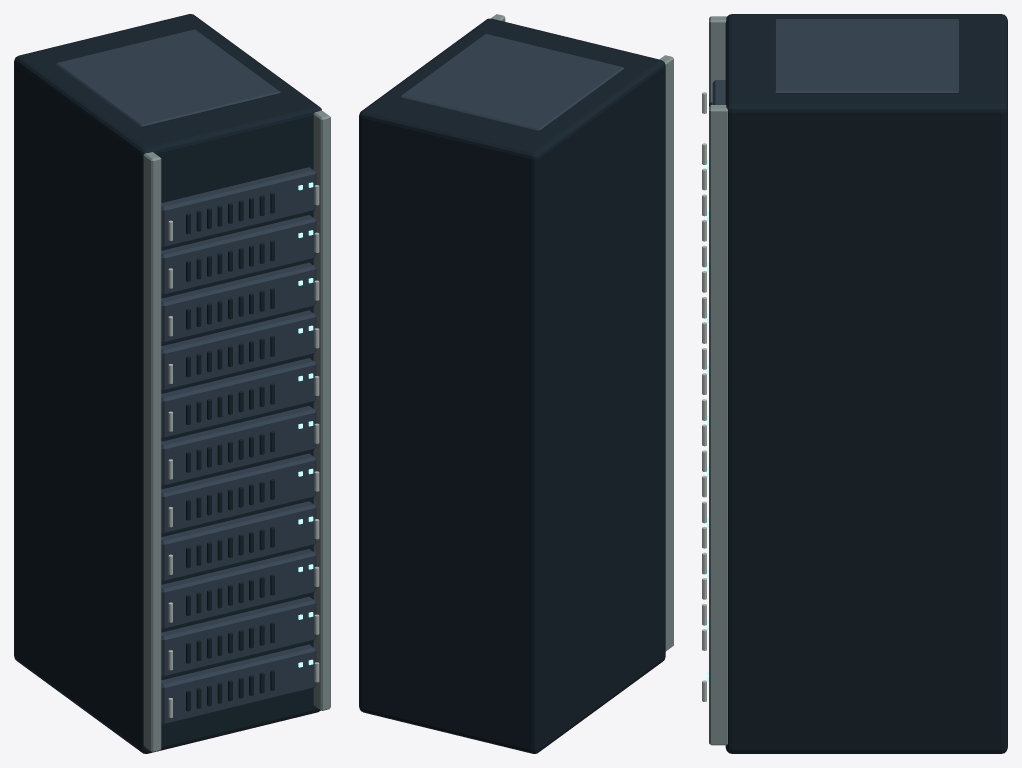
Rendered from server_rack.glb.
3 views of the same model, side by side, from view 1: azimuth 30°, elevation 25°; view 2: azimuth 150°, elevation 25°; view 3: azimuth 270°, elevation 25° (orthographic). The views are drawn at different scales.
Parts seen in each view (by area): view 1: server_rack__black, server_rack__metal, server_rack__metal_light, server_rack__steel, server_rack__status_green; view 2: server_rack__black, server_rack__metal, server_rack__metal_light; view 3: server_rack__black, server_rack__metal, server_rack__metal_light, server_rack__steel.
Part boxes in pixels (x1=…): server_rack__black: x1=14, y1=14, x2=321, y2=753; server_rack__metal: x1=56, y1=29, x2=316, y2=724; server_rack__metal_light: x1=143, y1=110, x2=330, y2=752; server_rack__steel: x1=168, y1=185, x2=319, y2=717; server_rack__status_green: x1=298, y1=182, x2=313, y2=667; server_rack__black: x1=359, y1=18, x2=665, y2=753; server_rack__metal: x1=400, y1=34, x2=623, y2=131; server_rack__metal_light: x1=491, y1=14, x2=673, y2=651; server_rack__black: x1=709, y1=14, x2=1007, y2=753; server_rack__metal: x1=712, y1=19, x2=958, y2=104; server_rack__metal_light: x1=709, y1=16, x2=727, y2=745; server_rack__steel: x1=702, y1=92, x2=706, y2=701.
Bounding box in the file's own units: 0.62 × 1.99 × 0.845.
